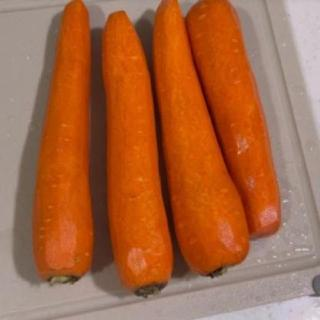carrot: (149, 3, 249, 283), (185, 2, 283, 244), (97, 10, 175, 304), (25, 0, 96, 284)
